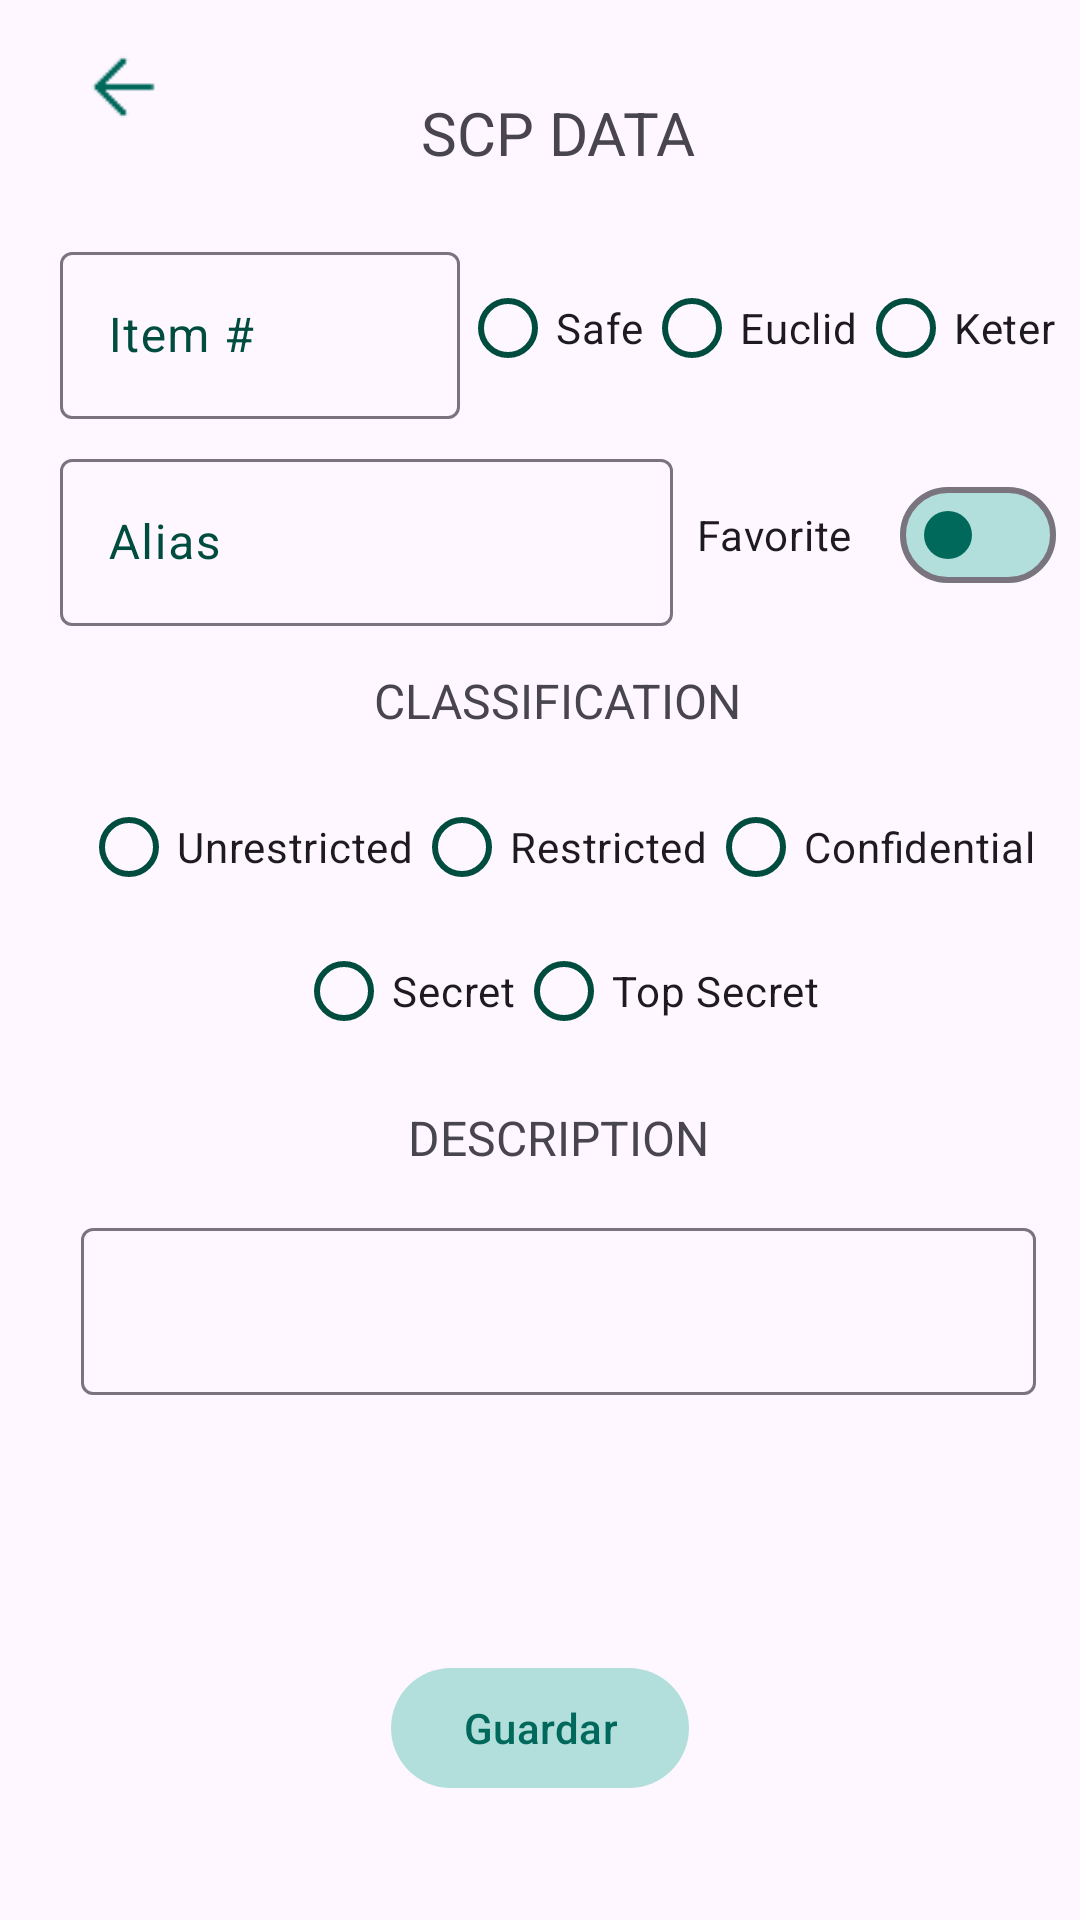

Locate icon controls on the screen. Image size 1080×1920, boxes as (x1, y1, x2, y2).
arrow back: (93, 58, 155, 116)
